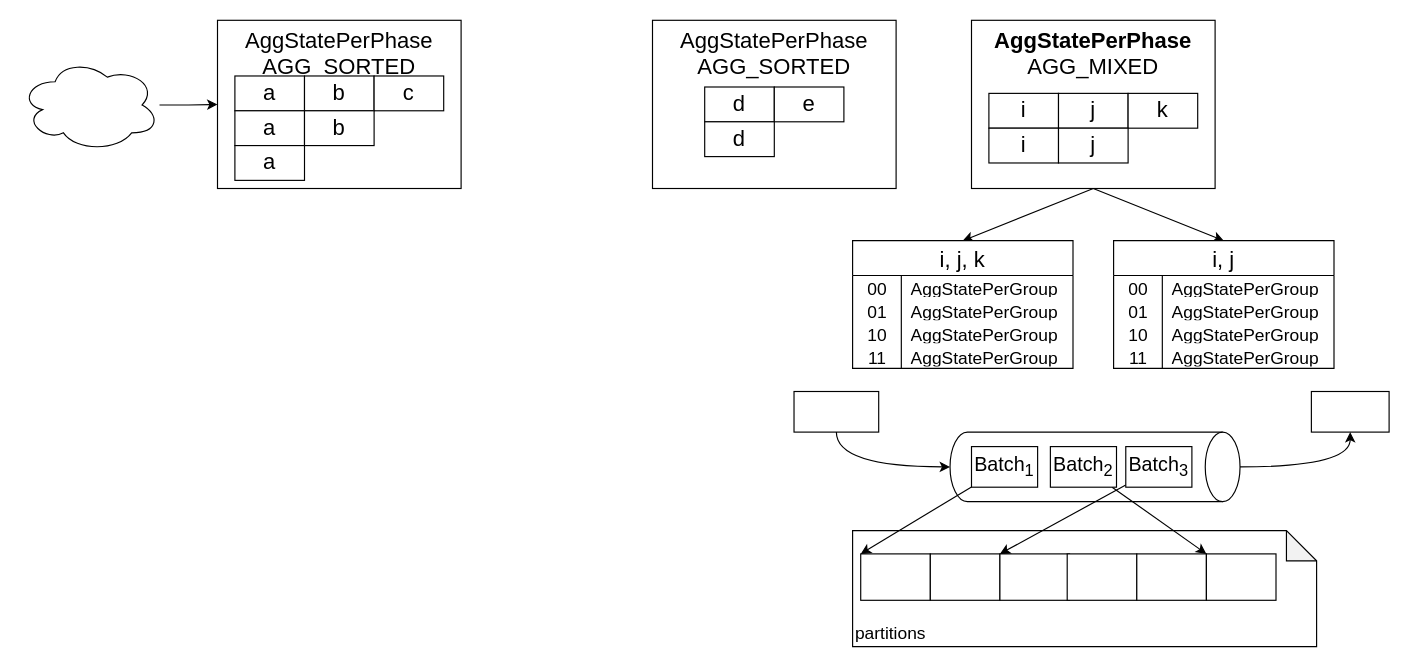
Image size: 1409x667. Some labels were removed from this diagram. The shapes that lost their labels are listed below. From the top down, each one's centre as x and y in pixels, then its label:
At (x=89, y=104): "Вход".
At (x=836, y=411): "Batch 0".
At (x=1349, y=411): "Batch n".
